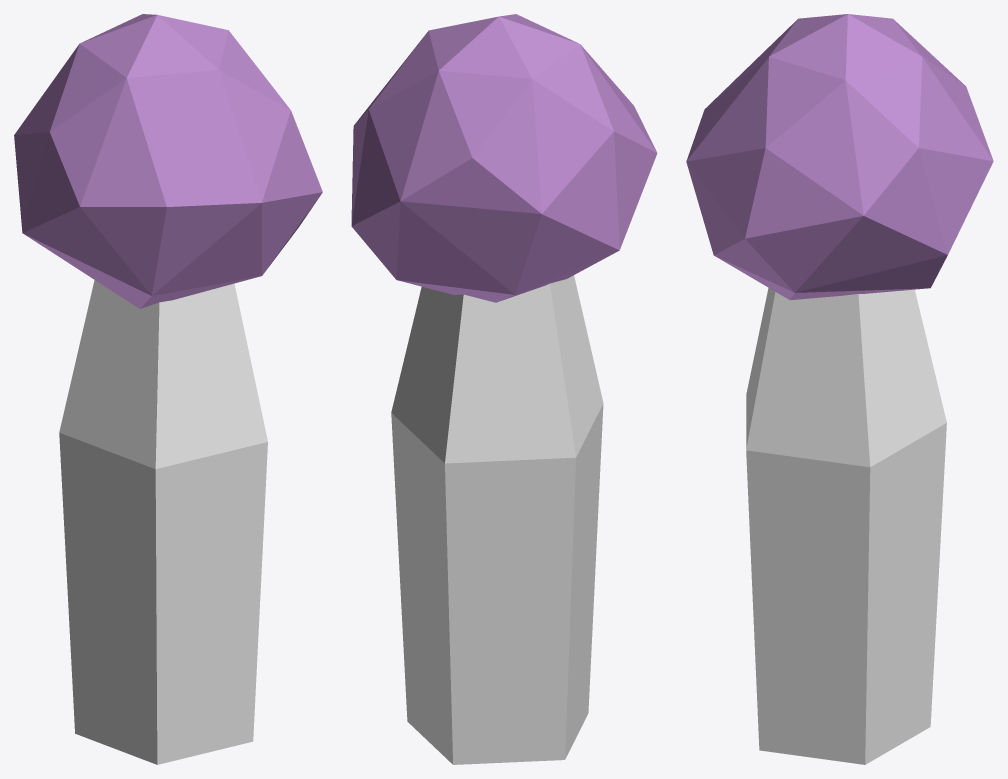
File: Mushroom_k_04.fbx
3 views of the same model, side by side, from view 1: azimuth 30°, elevation 25°; view 2: azimuth 150°, elevation 25°; view 3: azimuth 270°, elevation 25° (orthographic).
Visible parts, largest first — view 1: Mushroom_k_04; view 2: Mushroom_k_04; view 3: Mushroom_k_04.
Part boxes in pixels (x1,y1,x2,y2): Mushroom_k_04: [14, 14, 322, 764]; Mushroom_k_04: [351, 14, 657, 764]; Mushroom_k_04: [686, 14, 993, 764].
Bounding box in the file's own units: 0.1031 × 0.2659 × 0.1042.
